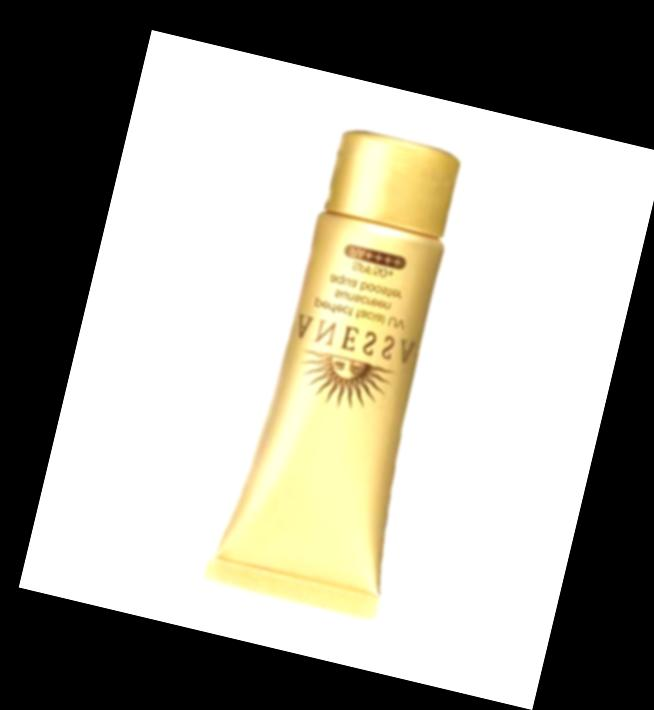cosmetic: (199, 117, 485, 620)
